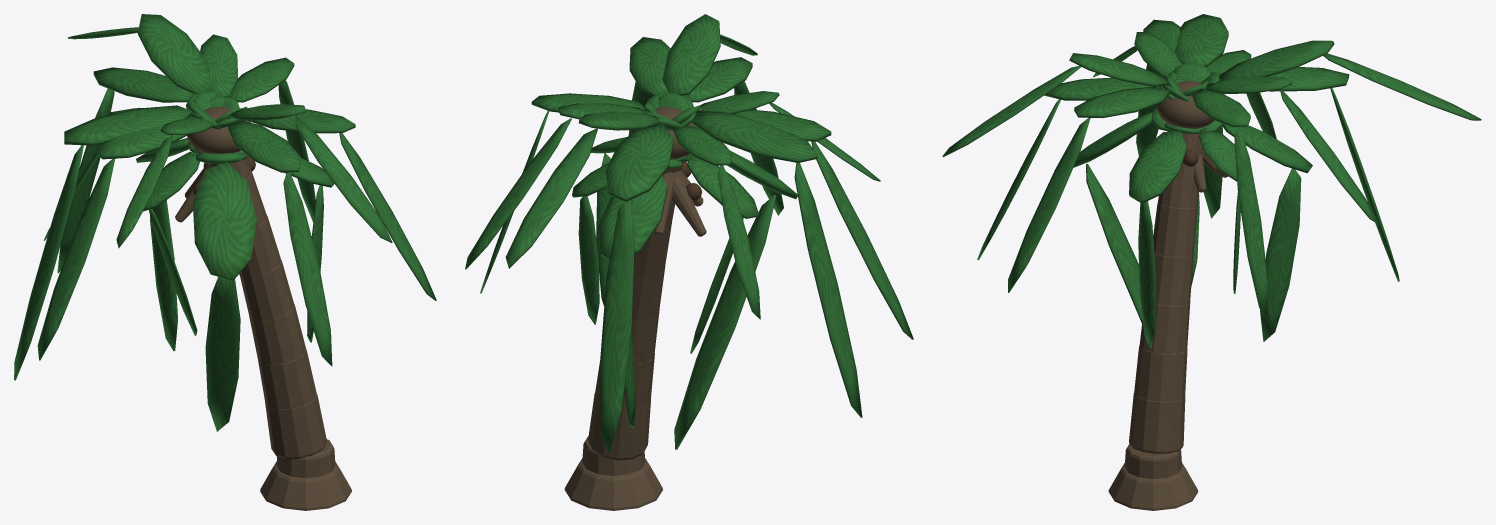
File: palm_bushy.glb
3 renders of one model, left to right at view 1: azimuth 30°, elevation 25°; view 2: azimuth 150°, elevation 25°; view 3: azimuth 270°, elevation 25°, orthographic. The views are drawn at different scales.
Visible parts, largest first — view 1: palm_bushy_skirtfrond14_s1, palm_bushy_skirtfrond14_s2, palm_bushy_frond8_s2, palm_bushy_frond6_s2, palm_bushy_frond2_s1, palm_bushy_frond5_s2, palm_bushy_root_flare, palm_bushy_trunk1, palm_bushy_frond5_s1, palm_bushy_trunk2, palm_bushy_frond9_s2, palm_bushy_trunk3 (+23 smaller); view 2: palm_bushy_frond3_s2, palm_bushy_skirtfrond14_s2, palm_bushy_frond5_s2, palm_bushy_frond3_s1, palm_bushy_frond5_s1, palm_bushy_root_flare, palm_bushy_frond2_s2, palm_bushy_frond9_s1, palm_bushy_frond6_s2, palm_bushy_skirtfrond12_s1, palm_bushy_frond4_s2, palm_bushy_trunk1 (+27 smaller); view 3: palm_bushy_skirtfrond12_s2, palm_bushy_frond0_s2, palm_bushy_trunk1, palm_bushy_root_flare, palm_bushy_skirtfrond15_s1, palm_bushy_frond10_s2, palm_bushy_trunk2, palm_bushy_skirtfrond14_s2, palm_bushy_frond2_s1, palm_bushy_frond5_s1, palm_bushy_trunk5, palm_bushy_skirtfrond15_s2 (+23 smaller).
Boxes of the visible parts, x1,y1,x2,y2 form: palm_bushy_skirtfrond14_s1: [193, 162, 256, 280]; palm_bushy_skirtfrond14_s2: [205, 277, 240, 431]; palm_bushy_frond8_s2: [283, 172, 332, 366]; palm_bushy_frond6_s2: [37, 158, 114, 360]; palm_bushy_frond2_s1: [137, 14, 211, 94]; palm_bushy_frond5_s2: [14, 145, 83, 380]; palm_bushy_root_flare: [260, 462, 351, 510]; palm_bushy_trunk1: [265, 394, 326, 459]; palm_bushy_frond5_s1: [64, 105, 192, 145]; palm_bushy_trunk2: [258, 348, 316, 409]; palm_bushy_frond9_s2: [295, 115, 392, 242]; palm_bushy_trunk3: [249, 304, 305, 368]; palm_bushy_frond3_s2: [599, 200, 634, 453]; palm_bushy_skirtfrond14_s2: [674, 195, 776, 449]; palm_bushy_frond5_s2: [794, 162, 862, 417]; palm_bushy_frond3_s1: [605, 123, 673, 201]; palm_bushy_frond5_s1: [692, 110, 817, 162]; palm_bushy_root_flare: [564, 458, 662, 510]; palm_bushy_frond2_s2: [505, 128, 597, 268]; palm_bushy_frond9_s1: [662, 14, 720, 95]; palm_bushy_frond6_s2: [811, 141, 913, 339]; palm_bushy_skirtfrond12_s1: [599, 176, 667, 259]; palm_bushy_frond4_s2: [718, 165, 760, 319]; palm_bushy_trunk1: [588, 392, 651, 460]; palm_bushy_skirtfrond12_s2: [1260, 168, 1301, 341]; palm_bushy_frond0_s2: [1234, 126, 1268, 317]; palm_bushy_trunk1: [1129, 393, 1185, 453]; palm_bushy_root_flare: [1108, 463, 1197, 510]; palm_bushy_skirtfrond15_s1: [1129, 131, 1187, 203]; palm_bushy_frond10_s2: [1008, 118, 1090, 292]; palm_bushy_trunk2: [1134, 346, 1187, 401]; palm_bushy_skirtfrond14_s2: [1086, 163, 1142, 322]; palm_bushy_frond2_s1: [1219, 40, 1334, 80]; palm_bushy_frond5_s1: [1174, 14, 1228, 66]; palm_bushy_trunk5: [1153, 202, 1197, 257]; palm_bushy_skirtfrond15_s2: [1138, 201, 1155, 348].
Bounding box in the file's own units: 3.39 × 4.09 × 4.78.
3 materials, 3 textured.
